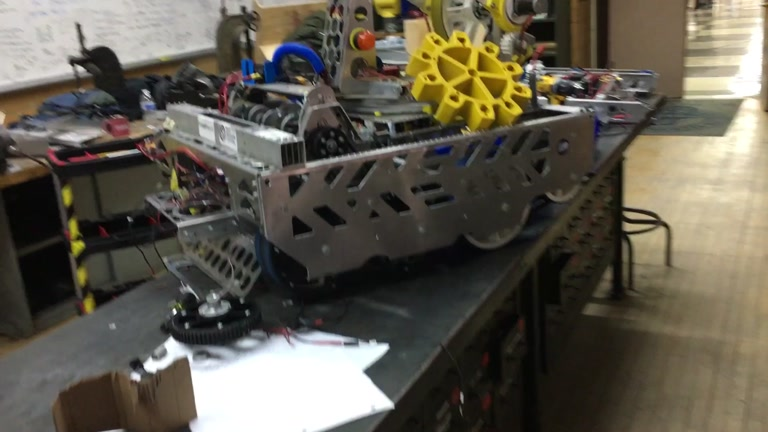gear: (404, 27, 532, 132)
